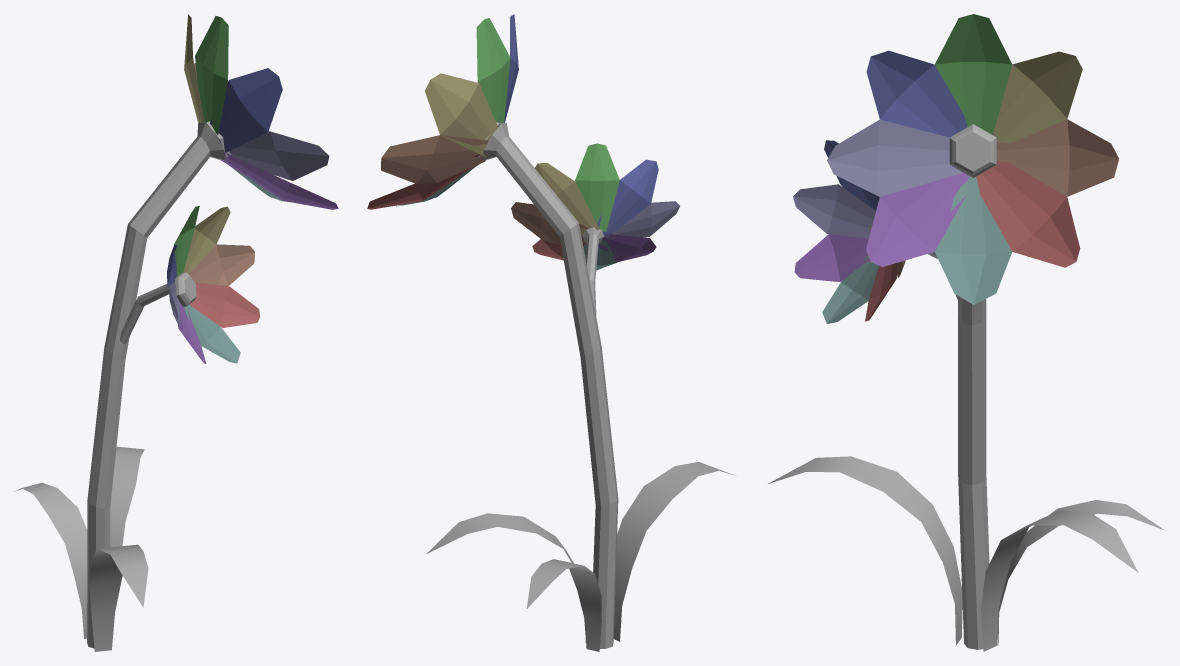
The model's file is Flores var2.fbx.
3 renders of one model, left to right at view 1: azimuth 30°, elevation 25°; view 2: azimuth 150°, elevation 25°; view 3: azimuth 270°, elevation 25°, orthographic. The views are drawn at different scales.
Parts seen in each view (by area): view 1: petalas_geo (×2), caule_geo, mato_geo2, botao_geo; view 2: petalas_geo (×2), caule_geo, mato_geo2; view 3: petalas_geo (×2), mato_geo2, caule_geo, botao_geo.
Part boxes in pixels (left/top/right/bottom): petalas_geo (×2): left=167, top=14, right=338, bottom=363; caule_geo: left=87, top=122, right=224, bottom=648; mato_geo2: left=15, top=446, right=148, bottom=651; botao_geo: left=175, top=272, right=196, bottom=306; petalas_geo (×2): left=367, top=14, right=679, bottom=270; caule_geo: left=482, top=122, right=618, bottom=648; mato_geo2: left=426, top=462, right=734, bottom=651; petalas_geo (×2): left=793, top=14, right=1118, bottom=323; mato_geo2: left=768, top=456, right=1164, bottom=651; caule_geo: left=928, top=252, right=989, bottom=649; botao_geo: left=949, top=124, right=996, bottom=177.
Size of the model in its own units: 0.6612 by 1.49 by 0.7724.
